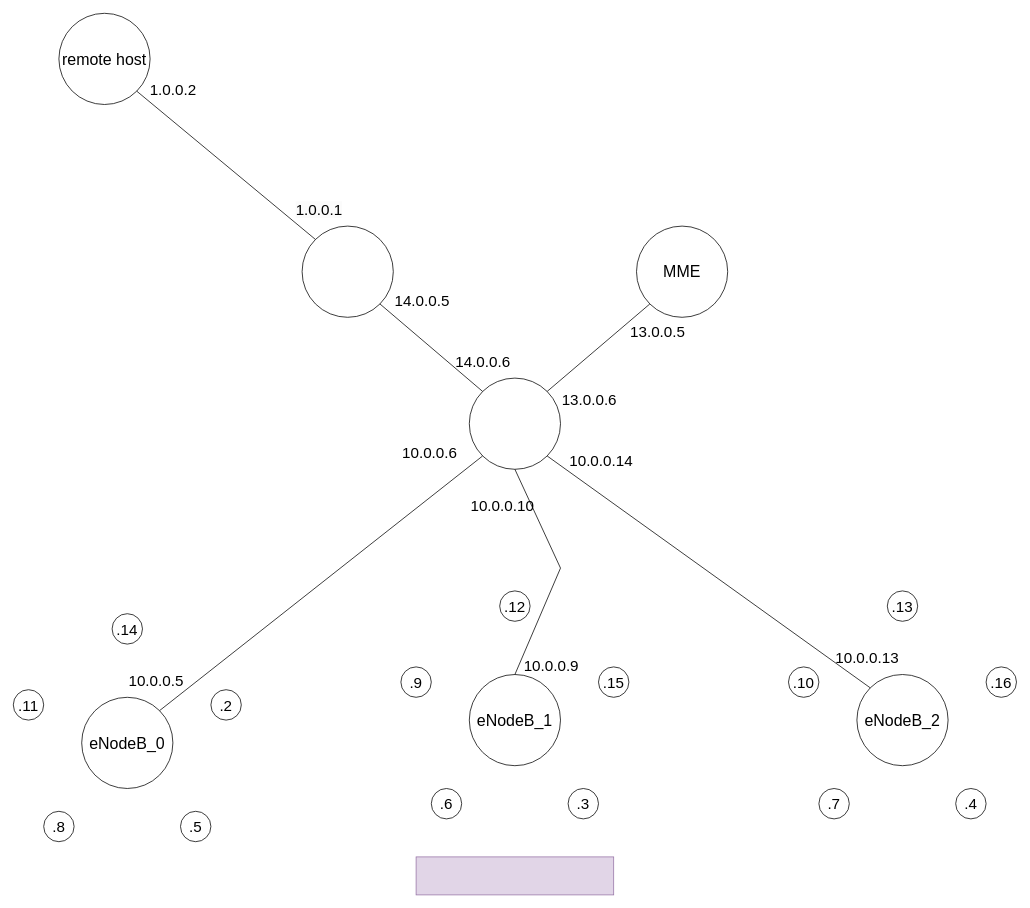
The diagram is 1030 pixels wide and 908 high, and some of its shapes have lost their labels. Each missing label, with the box of its shape:
Each UE is 7.0.0.X: (415, 856, 614, 895)
PGW: (301, 225, 393, 317)
SGW: (469, 377, 560, 469)
